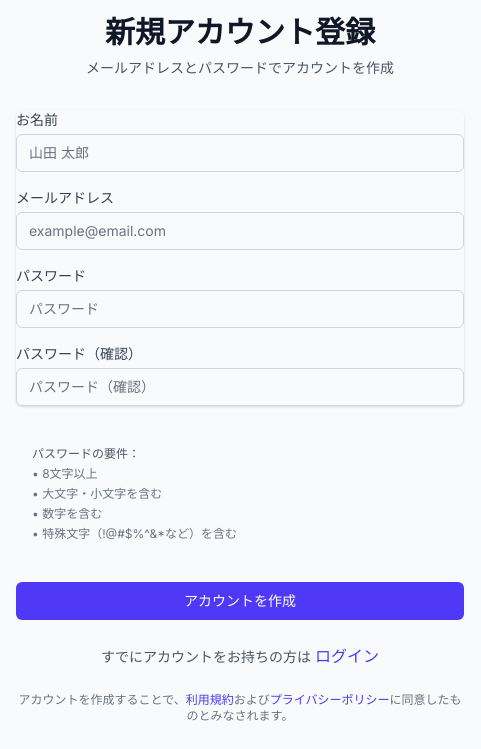
Test: SignupPage › パスワード確認の一致チェックが機能する
Type "Test123!@#" into the password field labelled "パスワード" at (240, 309), box [16, 290, 464, 328]
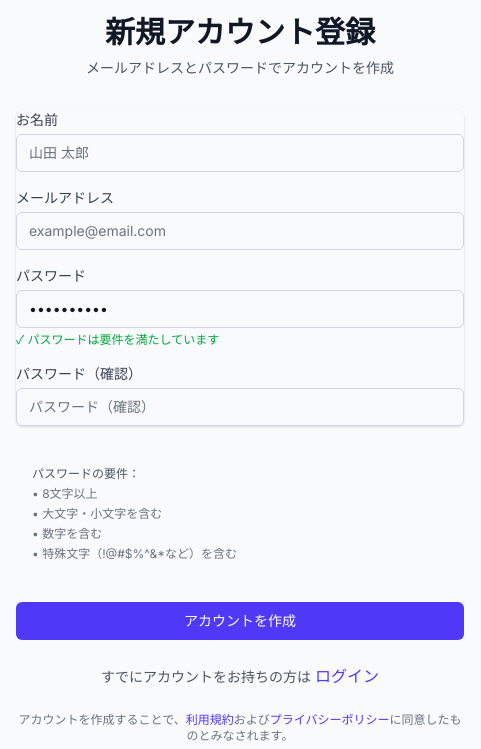
Type "Different123!@#" into the password field labelled "パスワード（確認）" at (240, 407), box [16, 388, 464, 426]
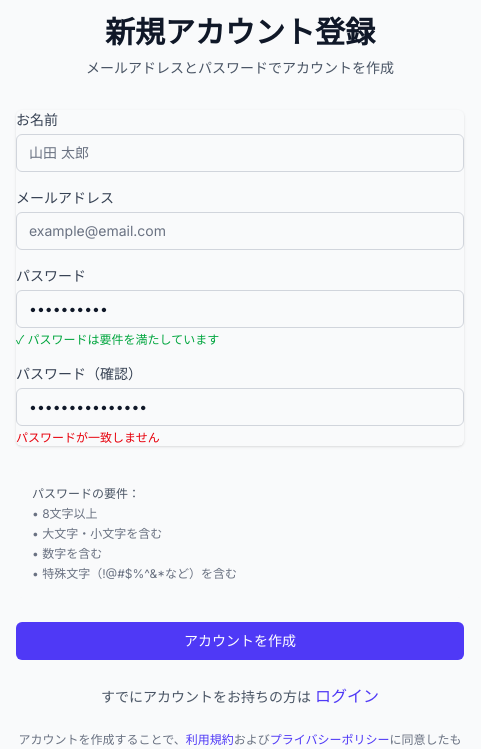
Expected: the text "パスワードが一致しません" is shown, [16, 430, 160, 445]
